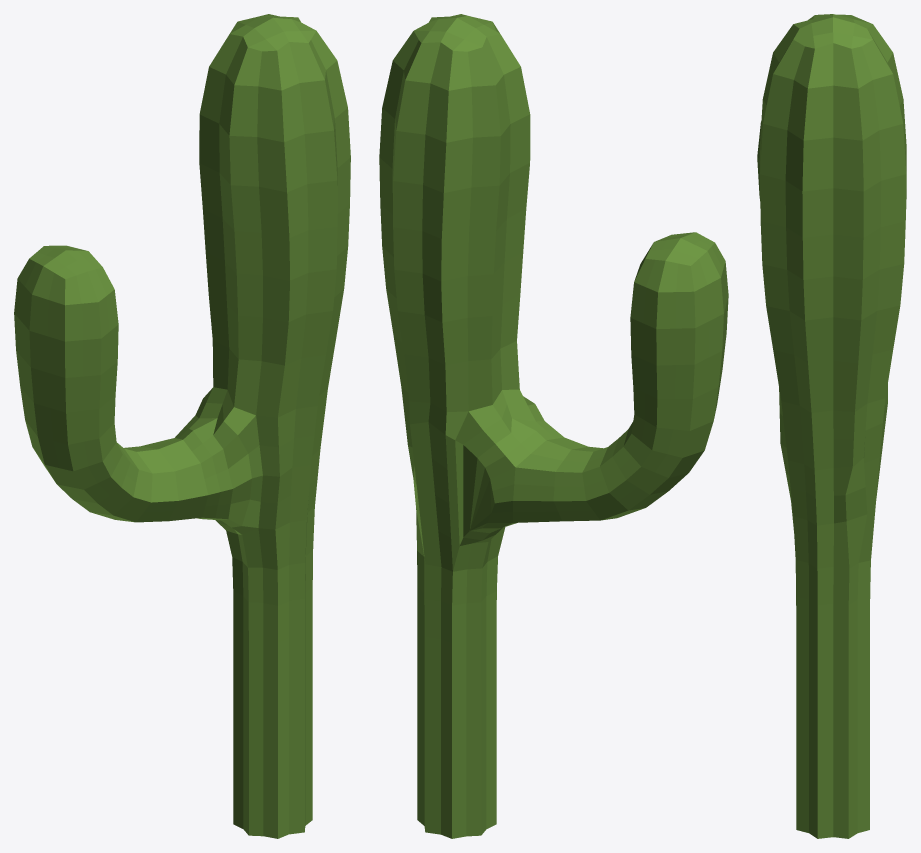
Rendered from cactus_1.glb.
3 views of the same model, side by side, from view 1: azimuth 30°, elevation 25°; view 2: azimuth 150°, elevation 25°; view 3: azimuth 270°, elevation 25° (orthographic).
Visible parts, largest first — view 1: Plane; view 2: Plane; view 3: Plane.
Boxes of the visible parts, box(x1,y1,x2,y2) form: Plane: box(14, 14, 350, 838); Plane: box(379, 14, 728, 838); Plane: box(757, 14, 906, 838).
Bounding box in the file's own units: 0.6816 × 1.65 × 0.2773.
